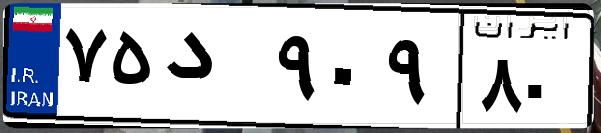0: (330, 28, 385, 110), (525, 38, 570, 115)
5: (110, 28, 158, 98)
7: (57, 26, 110, 100)
8: (475, 38, 525, 113)
9: (270, 28, 330, 110), (385, 28, 445, 110)
د: (158, 20, 270, 120)
